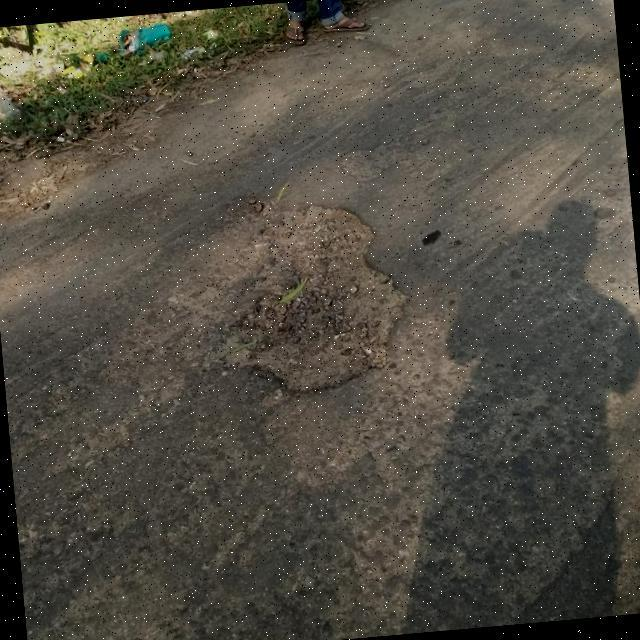Pothole: (198, 202, 409, 404)
